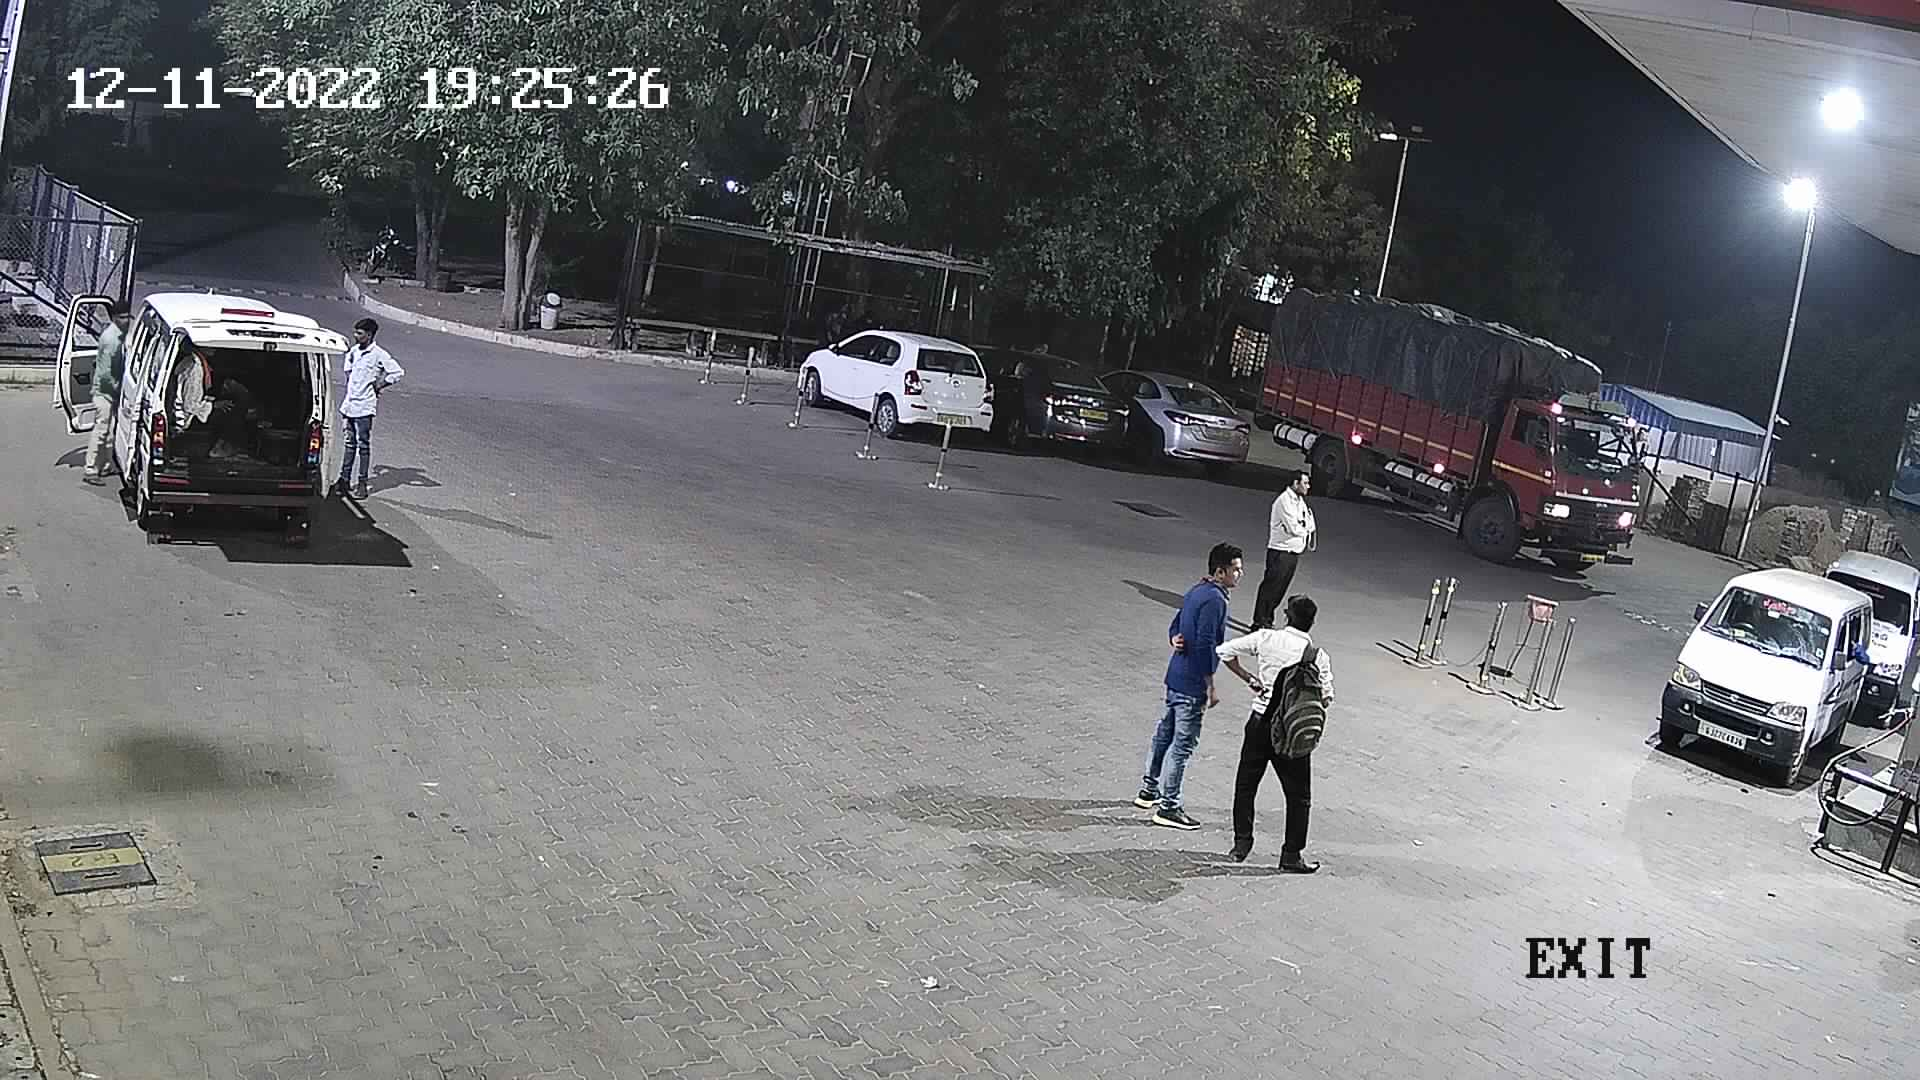Bike: (344, 212, 422, 306)
Car: (45, 281, 360, 556), (1642, 560, 1884, 794), (785, 320, 1009, 454), (963, 339, 1145, 473), (1804, 541, 1917, 728), (1095, 357, 1255, 480)
HMV: (1244, 278, 1655, 582)
